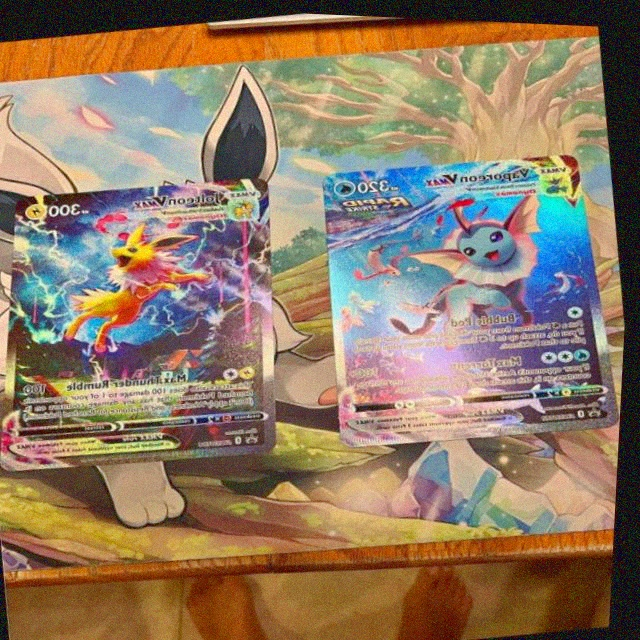card: (321, 147, 624, 446), (3, 173, 283, 472)
